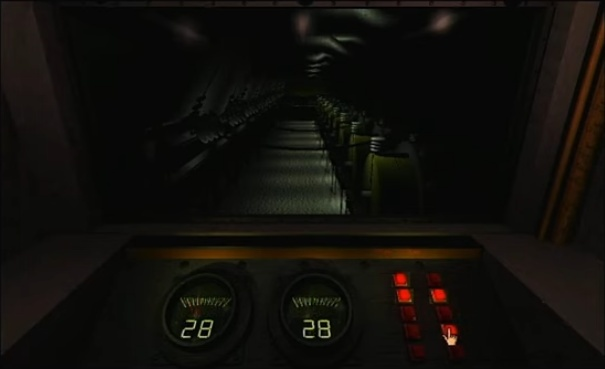Pointer: (439, 324, 462, 347)
